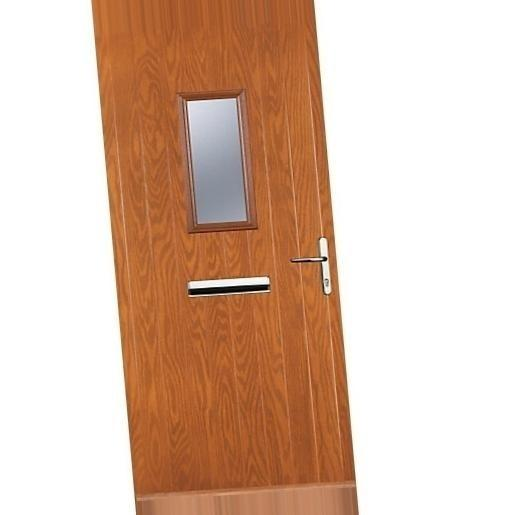door: (90, 0, 361, 515)
